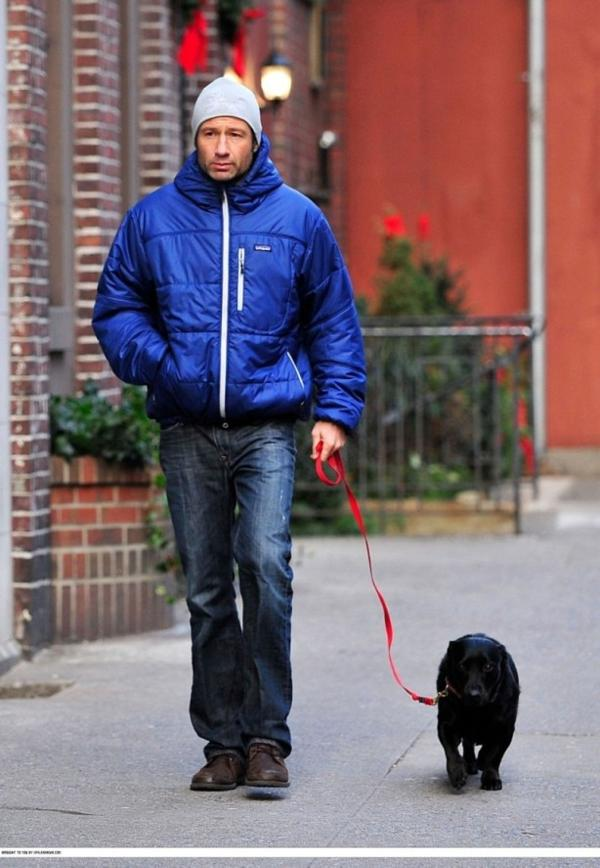person: (98, 75, 364, 791)
